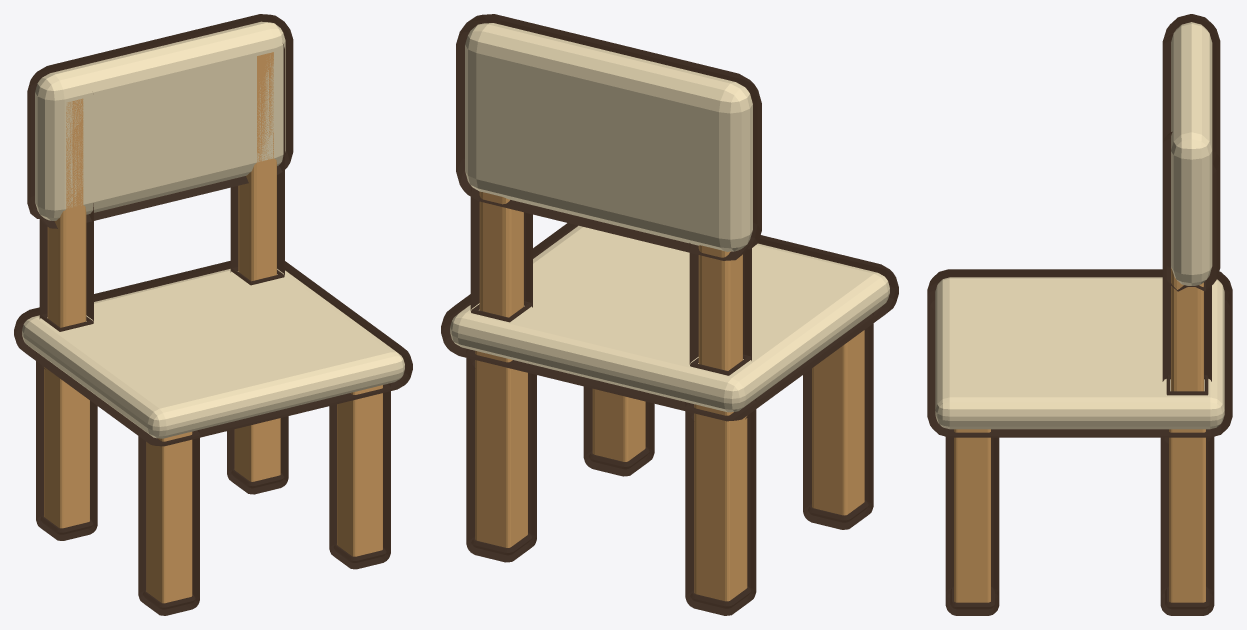
Rendered from cadeira.glb.
The picture shows the model from 3 angles, left to right: view 1: azimuth 30°, elevation 25°; view 2: azimuth 150°, elevation 25°; view 3: azimuth 270°, elevation 25°; orthographic projection. The views are drawn at different scales.
Parts seen in each view (by area): view 1: cadeira, cadeira_outline; view 2: cadeira, cadeira_outline; view 3: cadeira, cadeira_outline.
Part boxes in pixels (bbox=[...]): cadeira: bbox=[22, 21, 404, 603]; cadeira_outline: bbox=[14, 14, 412, 615]; cadeira: bbox=[450, 23, 889, 601]; cadeira_outline: bbox=[441, 14, 898, 615]; cadeira: bbox=[935, 22, 1224, 602]; cadeira_outline: bbox=[927, 14, 1232, 615].
Size of the model in its own units: 0.7893 by 1.31 by 0.7393.
